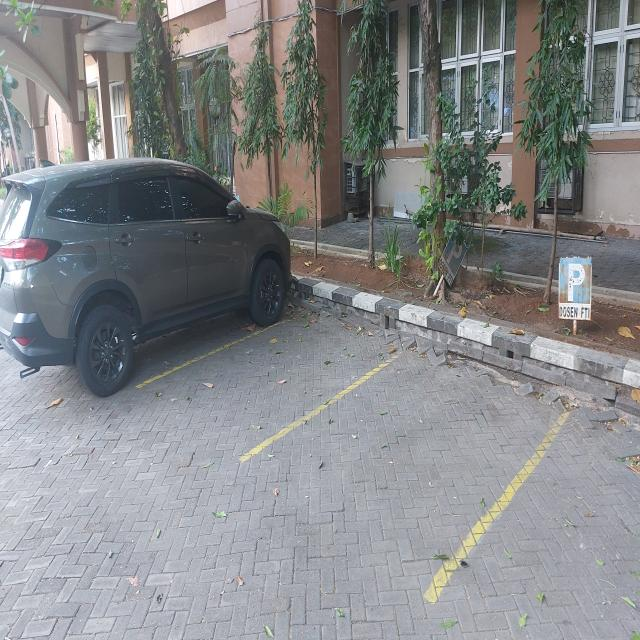empty: (242, 344, 572, 604), (143, 305, 410, 463)
occupied: (1, 159, 308, 402)
